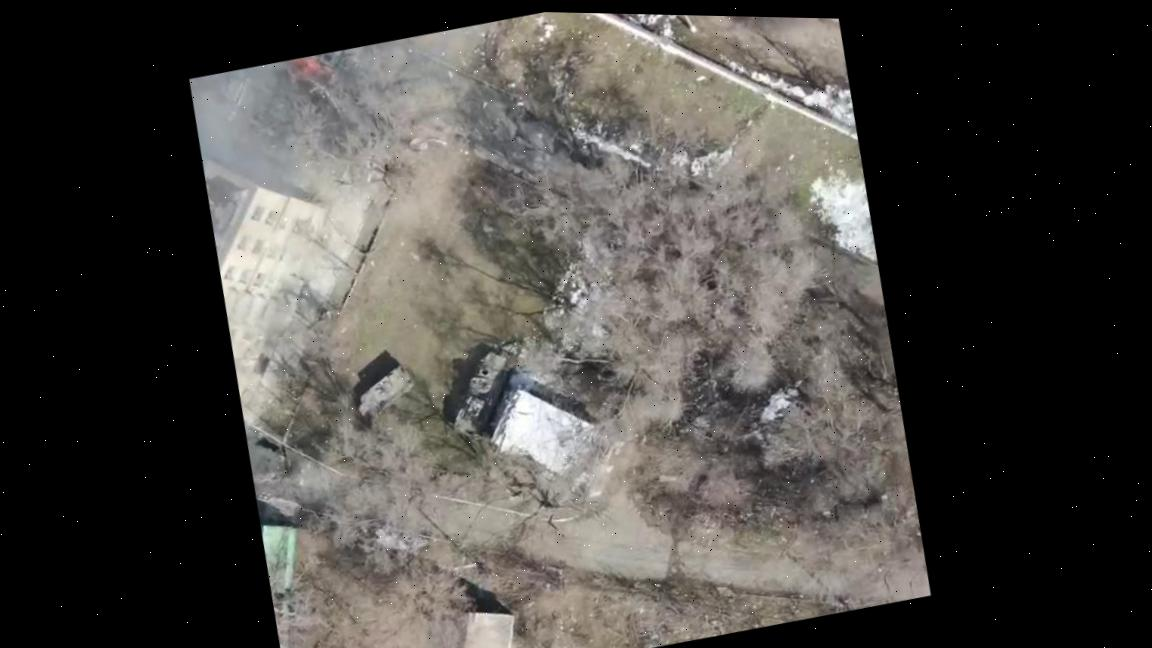tank: (434, 343, 532, 444), (346, 361, 422, 421), (294, 47, 351, 81)
